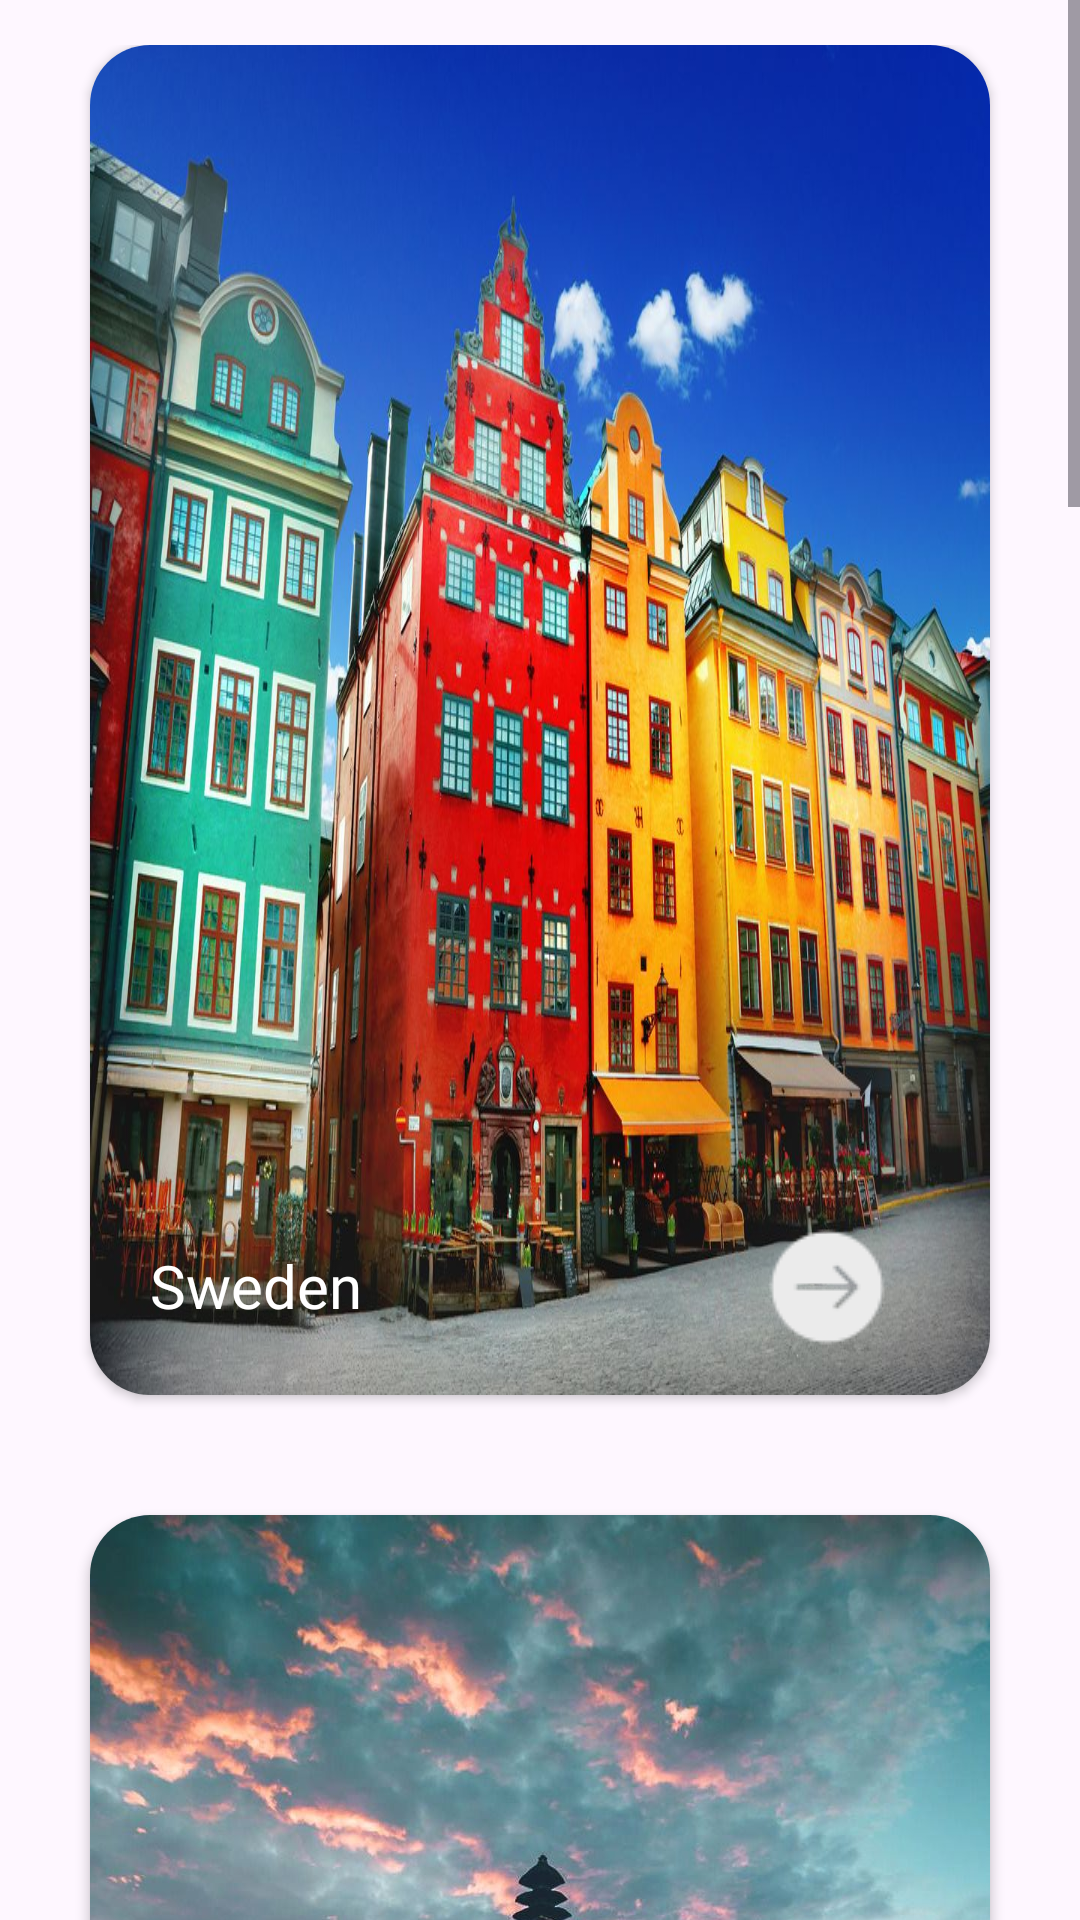

Icon click points for this 1080 x 1920 phone screenshot, format [x,y]:
arrow forword: [827,1287]
